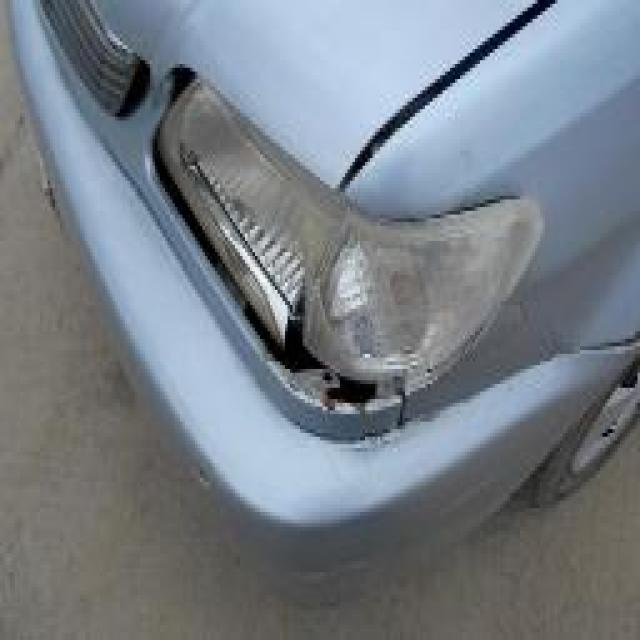Light: (152, 68, 495, 433)
